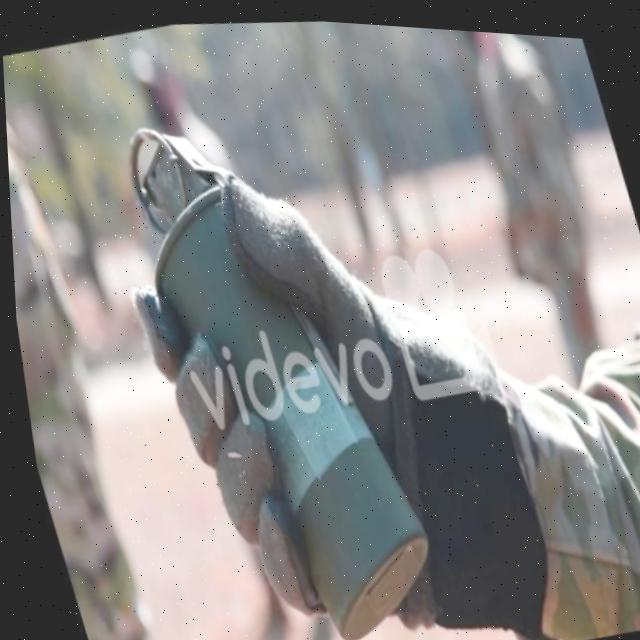grenade: (91, 80, 448, 640)
